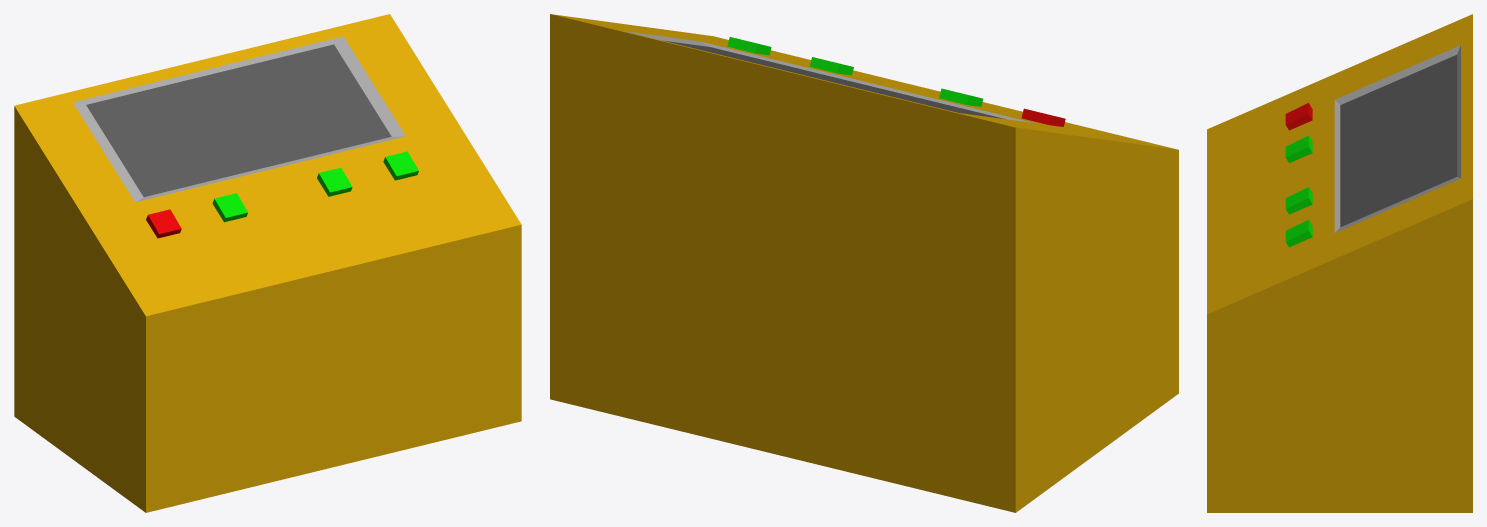
The model's file is New_Panel.fbx.
The picture shows the model from 3 angles, left to right: view 1: azimuth 30°, elevation 25°; view 2: azimuth 150°, elevation 25°; view 3: azimuth 270°, elevation 25°; orthographic projection. The views are drawn at different scales.
Parts seen in each view (by area): view 1: Control_Panel, R_Button, G_Button2, G_Button3, G_Button1; view 2: Control_Panel; view 3: Control_Panel, R_Button, G_Button3, G_Button1, G_Button2.
Part boxes in pixels (x1,y1,x2,y2): Control_Panel: (14,14,521,512); R_Button: (146,209,181,238); G_Button2: (317,167,352,196); G_Button3: (383,151,418,180); G_Button1: (212,193,247,222); Control_Panel: (550,14,1178,512); Control_Panel: (1207,14,1472,512); R_Button: (1285,103,1312,130); G_Button3: (1285,219,1312,247); G_Button1: (1285,135,1312,163); G_Button2: (1285,187,1312,214).
Bounding box in the file's own units: 2 × 1.58 × 1.21.
